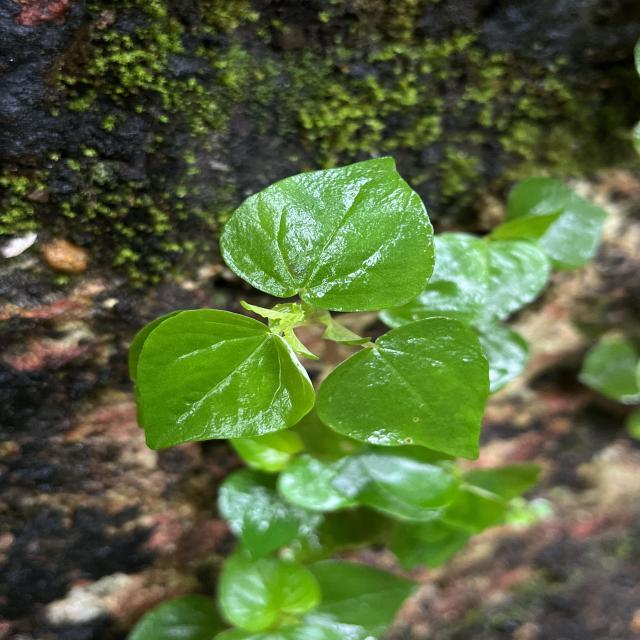Peperomia pellucida: (215, 154, 440, 315), (133, 306, 319, 454)
